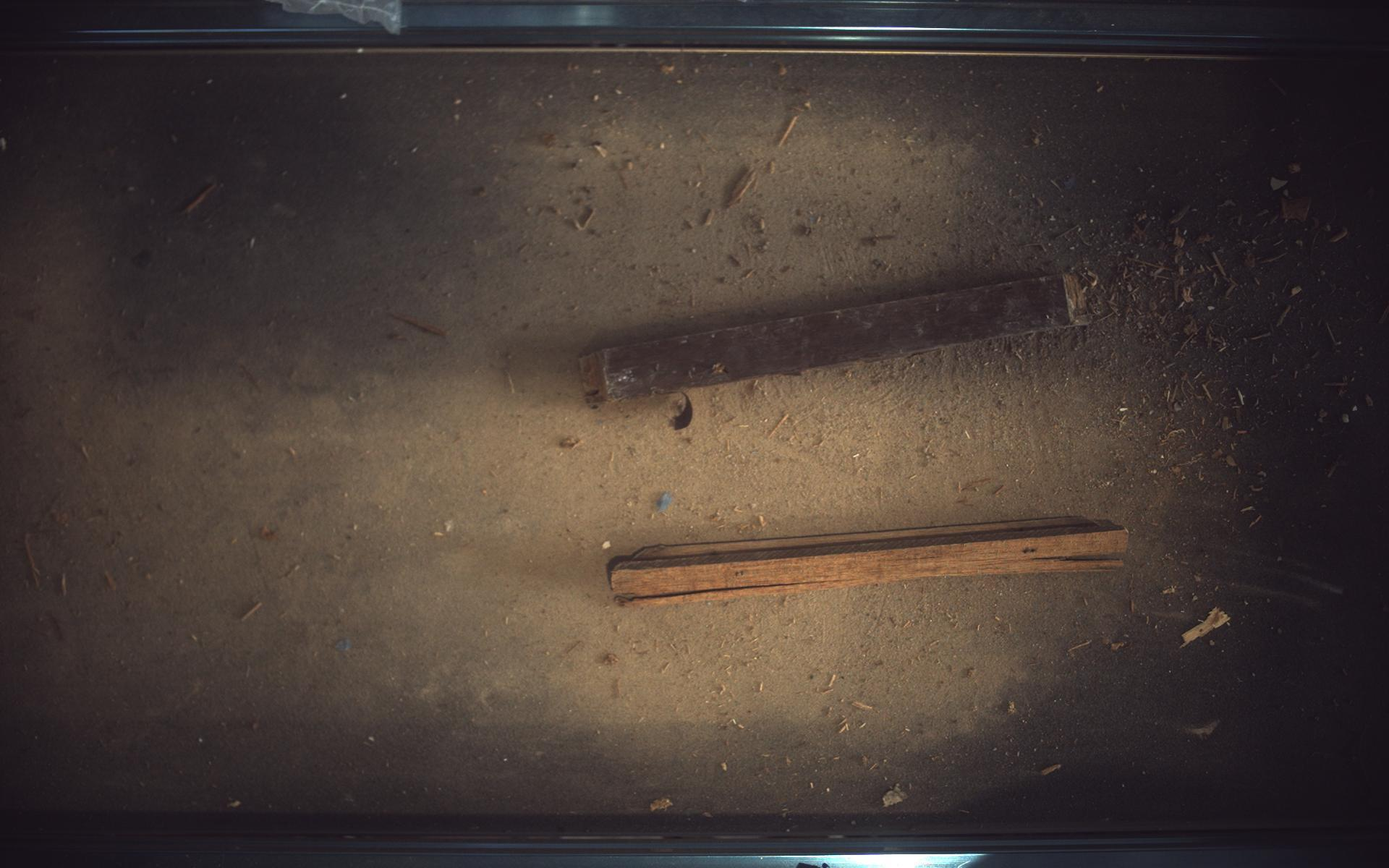wood: (580, 273, 1093, 400), (610, 516, 1130, 606)
